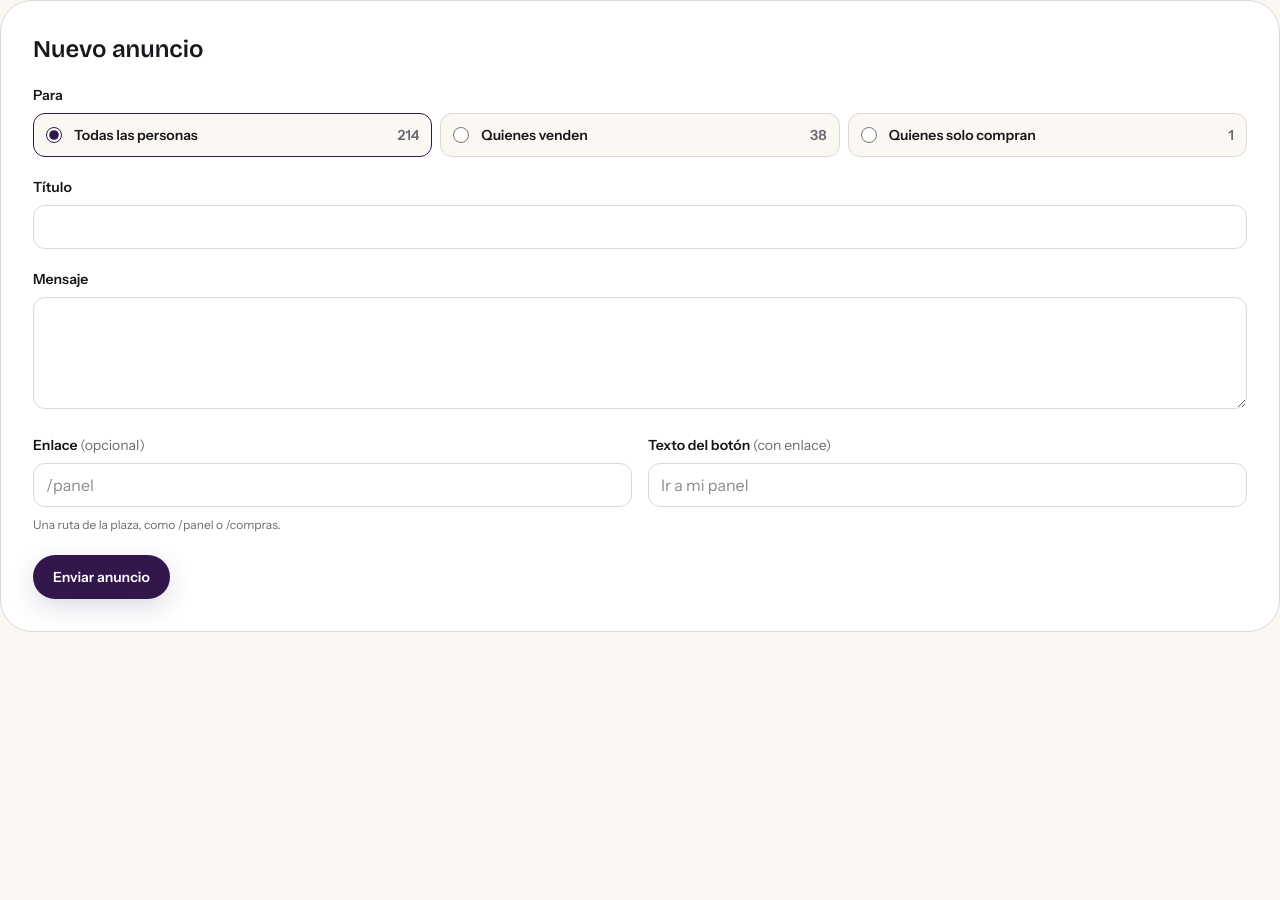
Test case: BroadcastForm › does not send on the first press: it says how many people it will reach
In the field labelled "Título": (640, 227) 33,205 -> 1247,249, type "Mantenimiento"
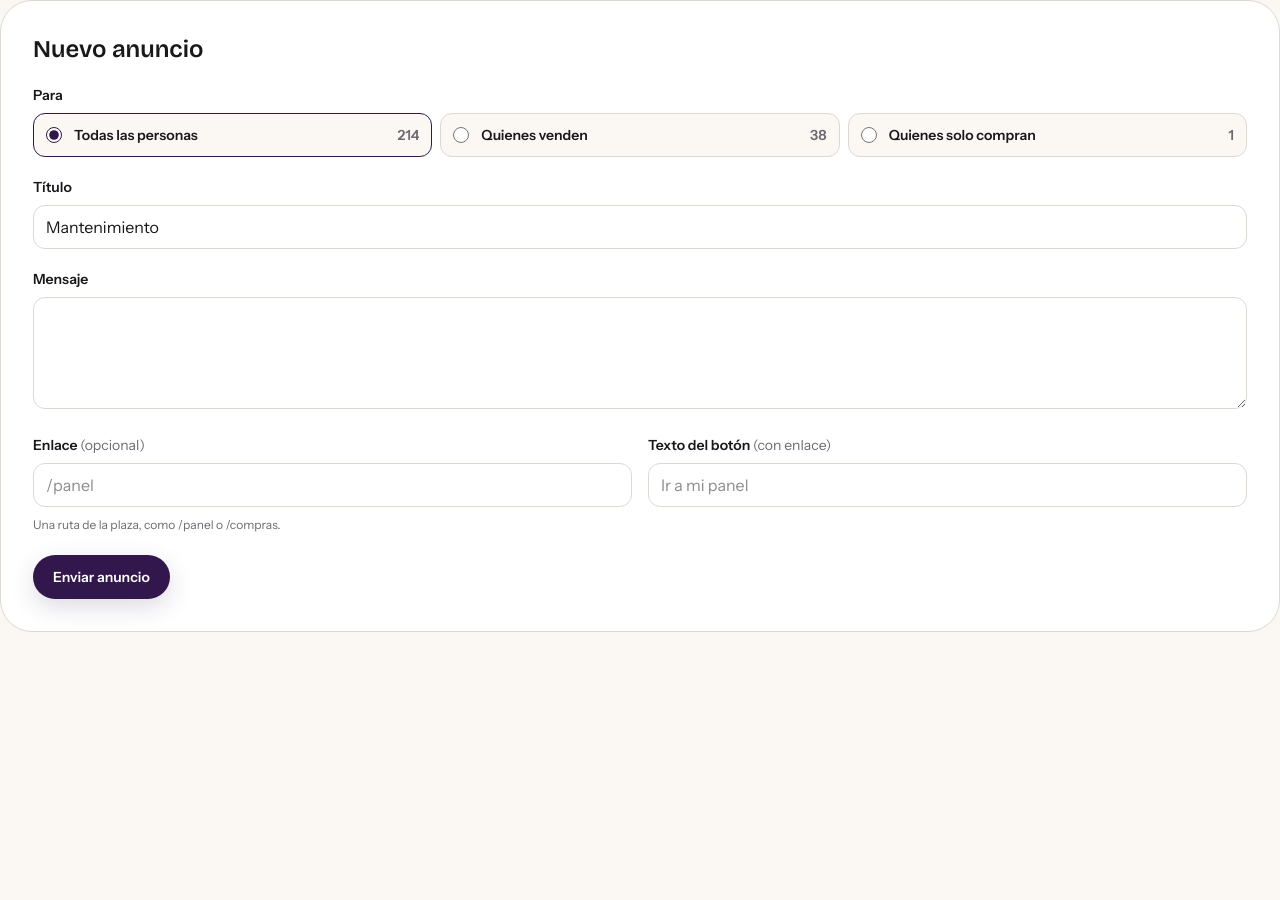
In the text box labelled "Mensaje": (640, 353) 33,297 -> 1247,409, type "El sábado por la noche."
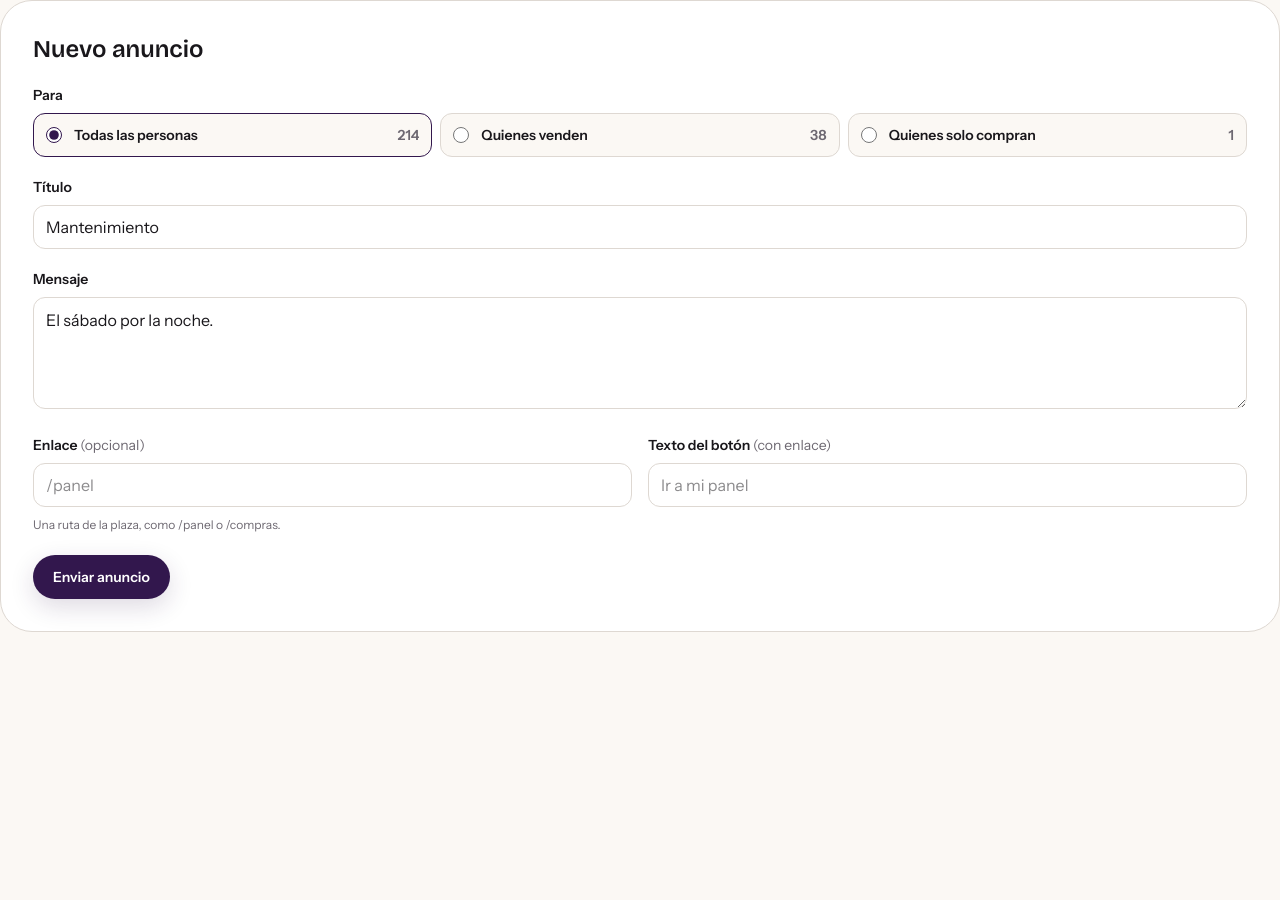
Click the button "Enviar anuncio": (101, 577) 33,555 -> 170,599
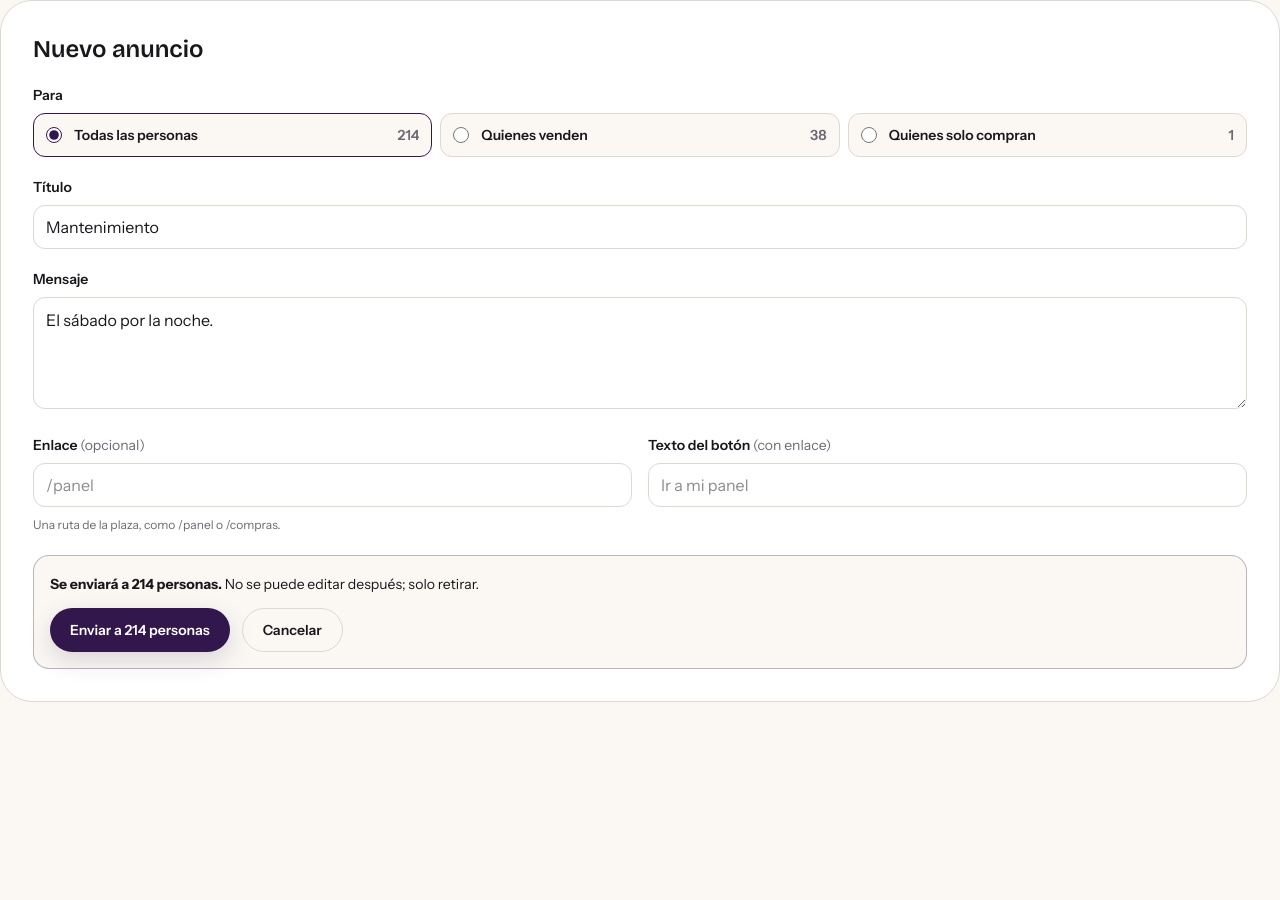
Check: the text "Se enviará a 214 personas." is shown, box 50,575 -> 222,593
Check: the text "No se puede editar después" is shown, box 222,575 -> 479,593
